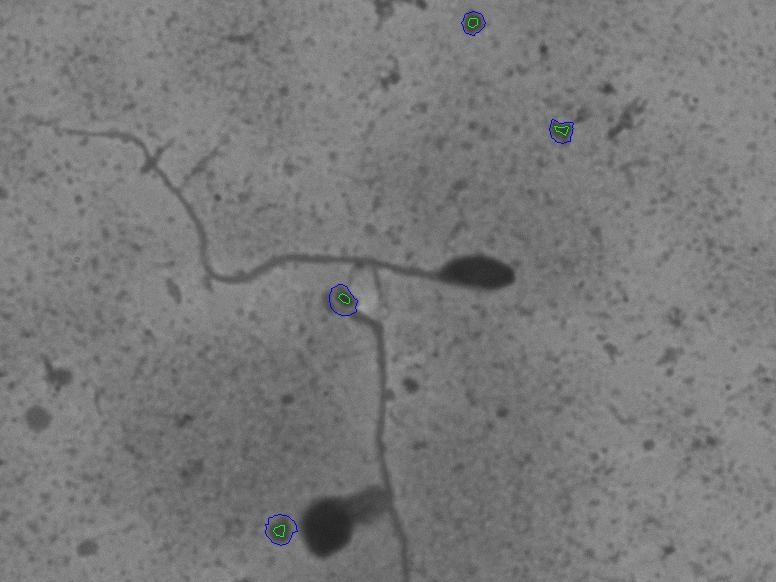Abnormal: (187, 201, 523, 298)
